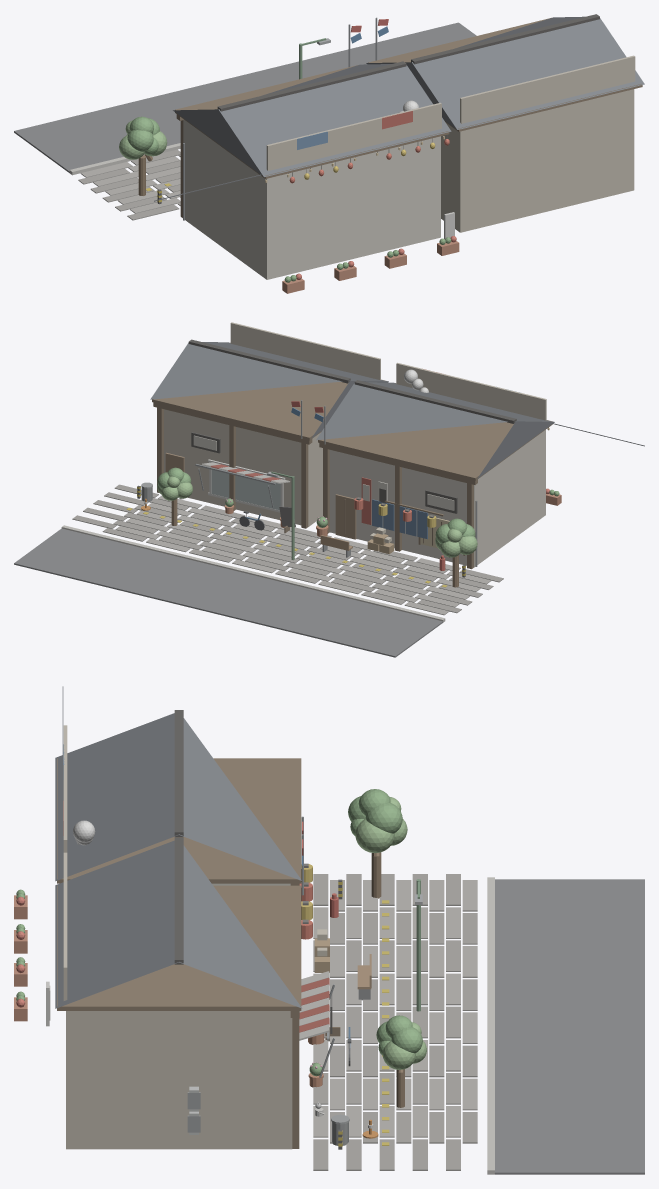
File: shopstreet_09.glb
3 views of the same model, one above another, from view 1: azimuth 30°, elevation 25°; view 2: azimuth 150°, elevation 25°; view 3: azimuth 270°, elevation 25° (orthographic). The views are drawn at different scales.
Parts seen in each view (by area): view 1: geometry_0; view 2: geometry_0; view 3: geometry_0.
Boxes of the visible parts, x1,y1,x2,y2 form: geometry_0: (14,14,644,293); geometry_0: (14,322,644,657); geometry_0: (14,686,644,1174).
Bounding box in the file's own units: 26.9 × 7.4 × 20.92.
